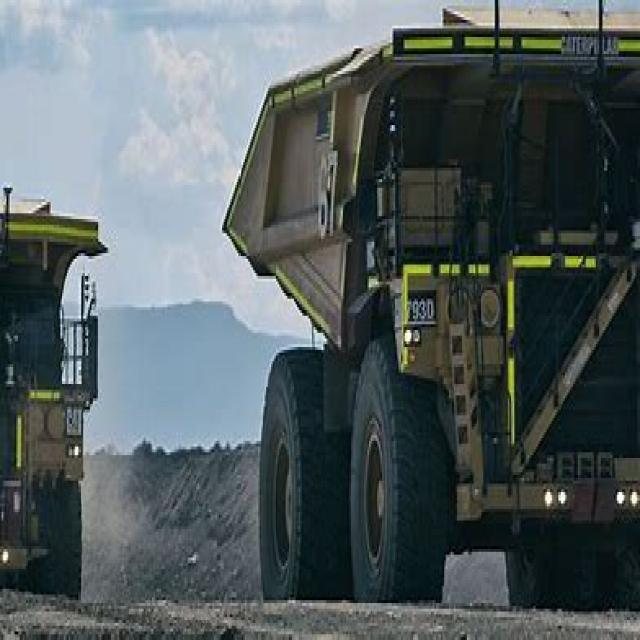dump_truck: (226, 14, 638, 626), (2, 171, 116, 614)
